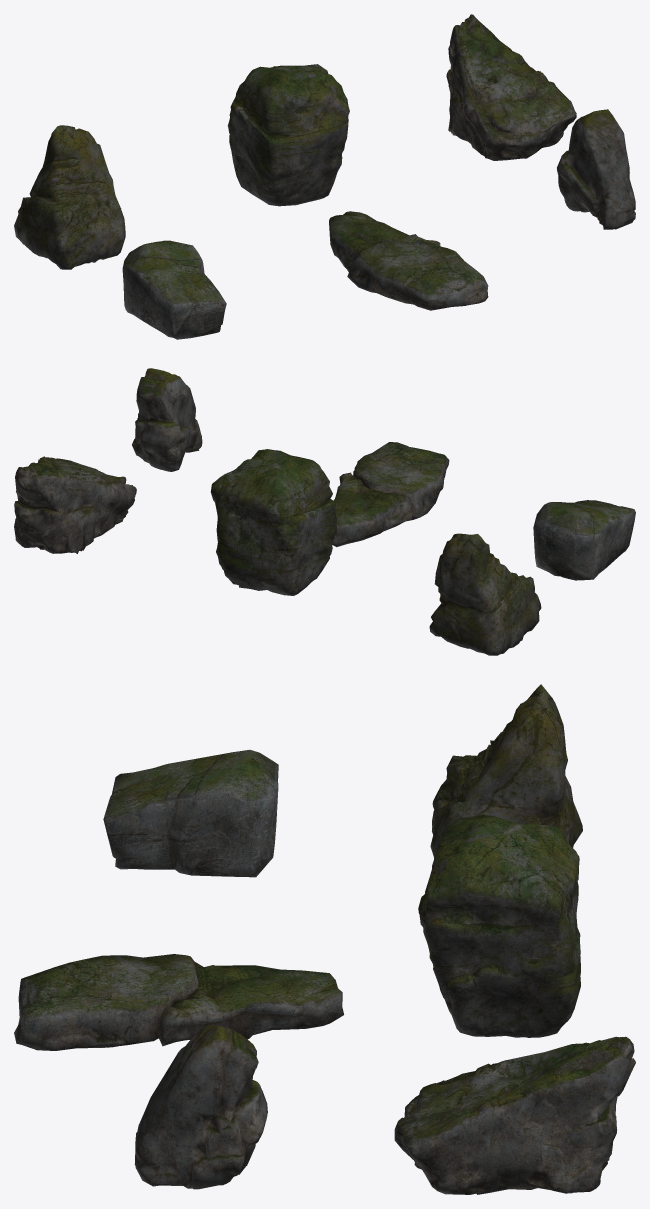
File: rocks.glb
3 renders of one model, top to bottom at view 1: azimuth 30°, elevation 25°; view 2: azimuth 150°, elevation 25°; view 3: azimuth 270°, elevation 25°, orthographic. The views are drawn at different scales.
Visible parts, largest first — view 1: SM_LittleRock_05, SM_LittleRock_06, SM_LittleRock_04, SM_LittleRock_03, SM_LittleRock_01, SM_LittleRock_02; view 2: SM_LittleRock_05, SM_LittleRock_04, SM_LittleRock_06, SM_LittleRock_03, SM_LittleRock_01, SM_LittleRock_02; view 3: SM_LittleRock_05, SM_LittleRock_06, SM_LittleRock_03, SM_LittleRock_01, SM_LittleRock_02, SM_LittleRock_04.
Part boxes in pixels (x1=…): SM_LittleRock_05: x1=227, y1=64, x2=349, y2=206; SM_LittleRock_06: x1=446, y1=14, x2=576, y2=160; SM_LittleRock_04: x1=14, y1=125, x2=125, y2=269; SM_LittleRock_03: x1=329, y1=211, x2=488, y2=310; SM_LittleRock_01: x1=122, y1=240, x2=226, y2=339; SM_LittleRock_02: x1=557, y1=109, x2=635, y2=229; SM_LittleRock_05: x1=210, y1=449, x2=337, y2=595; SM_LittleRock_04: x1=429, y1=533, x2=541, y2=655; SM_LittleRock_06: x1=14, y1=456, x2=136, y2=553; SM_LittleRock_03: x1=332, y1=442, x2=449, y2=547; SM_LittleRock_01: x1=533, y1=500, x2=635, y2=580; SM_LittleRock_02: x1=132, y1=368, x2=202, y2=471; SM_LittleRock_05: x1=418, y1=814, x2=580, y2=1037; SM_LittleRock_06: x1=394, y1=1036, x2=635, y2=1194; SM_LittleRock_03: x1=14, y1=954, x2=343, y2=1050; SM_LittleRock_01: x1=103, y1=749, x2=278, y2=877; SM_LittleRock_02: x1=134, y1=1025, x2=267, y2=1189; SM_LittleRock_04: x1=430, y1=684, x2=582, y2=858.
Size of the model in its own units: 14.36 by 3.5 by 9.86.
6 materials, 6 textured.
